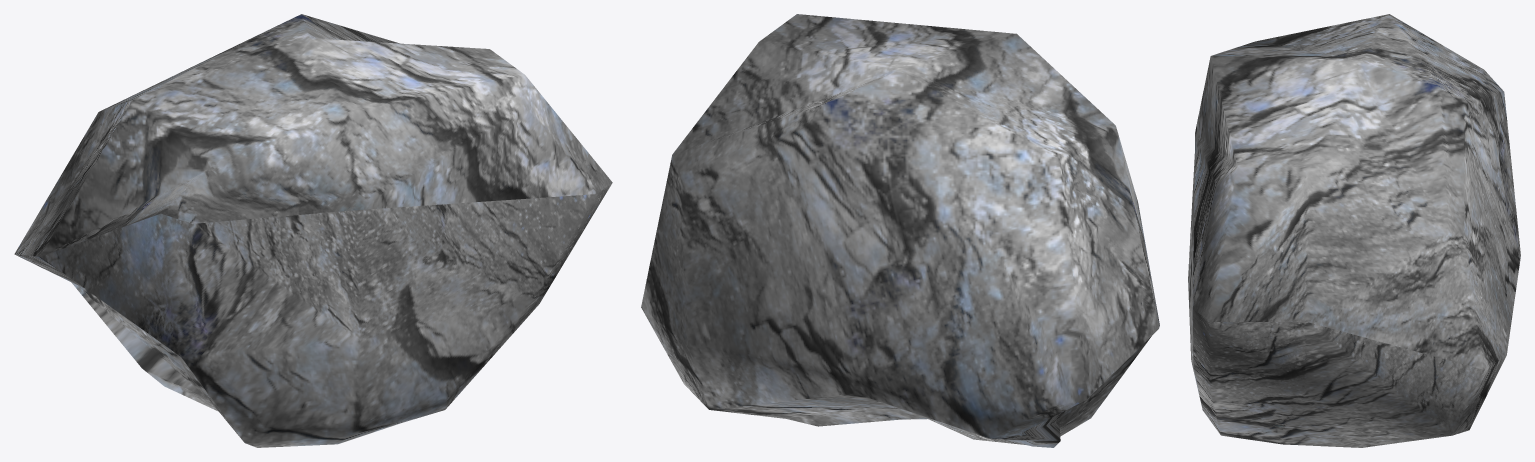
Rendered from forest ground rock 2.fbx.
3 views of the same model, side by side, from view 1: azimuth 30°, elevation 25°; view 2: azimuth 150°, elevation 25°; view 3: azimuth 270°, elevation 25° (orthographic). The views are drawn at different scales.
Visible parts, largest first — view 1: Cube; view 2: Cube; view 3: Cube.
Part boxes in pixels (<box>): Cube: <box>14,14,612,447</box>; Cube: <box>641,14,1159,447</box>; Cube: <box>1188,14,1520,447</box>.
Size of the model in its own units: 0.6967 by 0.4926 by 0.4101.
